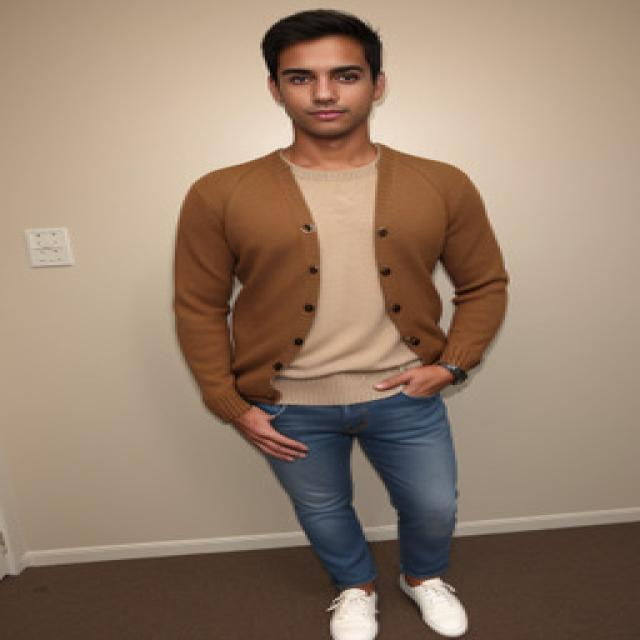Ai human 2: (159, 9, 549, 640)
